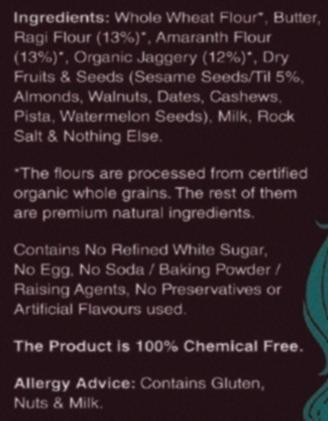ingredients: (7, 4, 318, 419)
